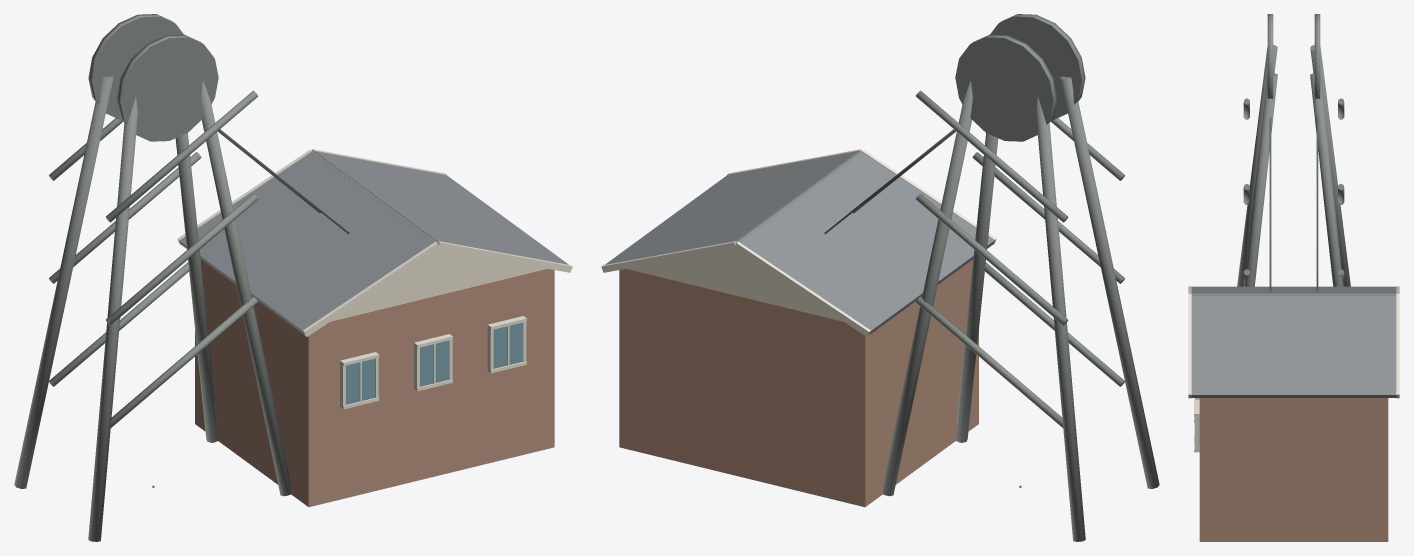
File: tyne-mine_lod0.glb
3 views of the same model, side by side, from view 1: azimuth 30°, elevation 25°; view 2: azimuth 150°, elevation 25°; view 3: azimuth 270°, elevation 25° (orthographic). The views are drawn at different scales.
Parts seen in each view (by area): view 1: RF_WindingHouse, RF_Roof.001, RF_Roof, RF_WindingWheel.001, RF_HeadframeLeg.001, RF_HeadframeLeg.002, RF_Gable, RF_HeadframeLeg.003, RF_HeadframeLeg, RF_WindingWheel, RF_HeadframeBrace.005, RF_HeadframeBrace.003 (+8 smaller); view 2: RF_WindingHouse, RF_Roof.001, RF_Roof, RF_WindingWheel, RF_HeadframeLeg.002, RF_HeadframeLeg.001, RF_Gable.001, RF_HeadframeLeg, RF_HeadframeLeg.003, RF_WindingWheel.001, RF_HeadframeBrace, RF_HeadframeBrace.004 (+5 smaller); view 3: RF_WindingHouse, RF_Roof, RF_HeadframeLeg.003, RF_HeadframeLeg, RF_Roof.001, RF_HeadframeLeg.001, RF_HeadframeLeg.002, RF_WindingWheel.001, RF_WindingWheel, RF_WindingCable.001, RF_WindingCable, RF_Vergeband.003 (+2 smaller).
Part boxes in pixels (x1,y1,x2,y2): RF_WindingHouse: (195, 259, 554, 507); RF_Roof.001: (179, 151, 435, 334); RF_Roof: (314, 151, 568, 264); RF_WindingWheel.001: (117, 34, 218, 141); RF_HeadframeLeg.001: (88, 97, 137, 541); RF_HeadframeLeg.002: (14, 76, 113, 488); RF_Gable: (330, 249, 547, 321); RF_HeadframeLeg.003: (201, 81, 291, 496); RF_HeadframeLeg: (175, 133, 217, 442); RF_WindingWheel: (88, 14, 183, 120); RF_HeadframeBrace.005: (106, 90, 257, 222); RF_HeadframeBrace.003: (106, 193, 257, 325); RF_WindingHouse: (619, 259, 978, 507); RF_Roof.001: (738, 151, 994, 334); RF_Roof: (605, 151, 859, 264); RF_WindingWheel: (955, 34, 1056, 141); RF_HeadframeLeg.002: (1036, 97, 1085, 541); RF_HeadframeLeg.001: (1060, 76, 1159, 488); RF_Gable.001: (626, 249, 843, 321); RF_HeadframeLeg: (882, 81, 972, 496); RF_HeadframeLeg.003: (956, 133, 998, 442); RF_WindingWheel.001: (990, 14, 1085, 120); RF_HeadframeBrace: (916, 90, 1067, 222); RF_HeadframeBrace.004: (916, 193, 1067, 325); RF_WindingHouse: (1199, 398, 1388, 541); RF_Roof: (1190, 294, 1397, 397); RF_HeadframeLeg.003: (1244, 73, 1277, 286); RF_HeadframeLeg: (1310, 73, 1343, 286); RF_Roof.001: (1191, 286, 1397, 293); RF_HeadframeLeg.001: (1237, 45, 1277, 286); RF_HeadframeLeg.002: (1310, 45, 1350, 286); RF_WindingWheel.001: (1267, 14, 1273, 98); RF_WindingWheel: (1314, 14, 1320, 98); RF_WindingCable.001: (1269, 117, 1271, 291); RF_WindingCable: (1316, 117, 1318, 291); RF_Vergeband.003: (1188, 294, 1191, 398).
Bounding box in the file's own units: 18.56 × 18.04 × 8.98.
